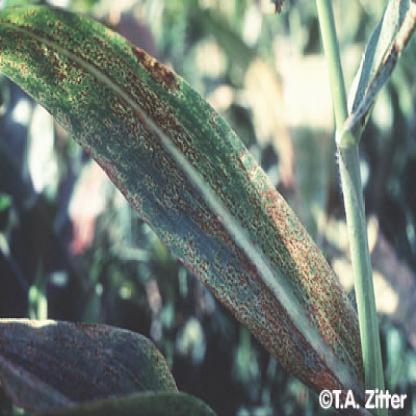corn rust leaf: (1, 2, 360, 388)
